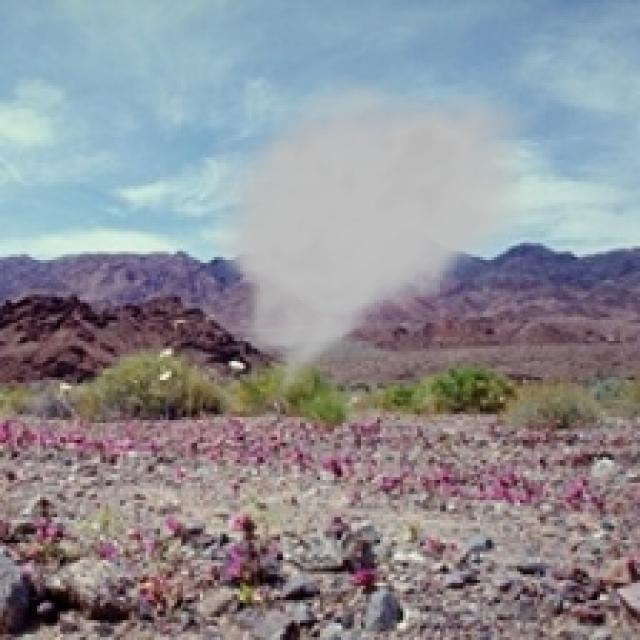Smoke: (200, 74, 549, 420)
